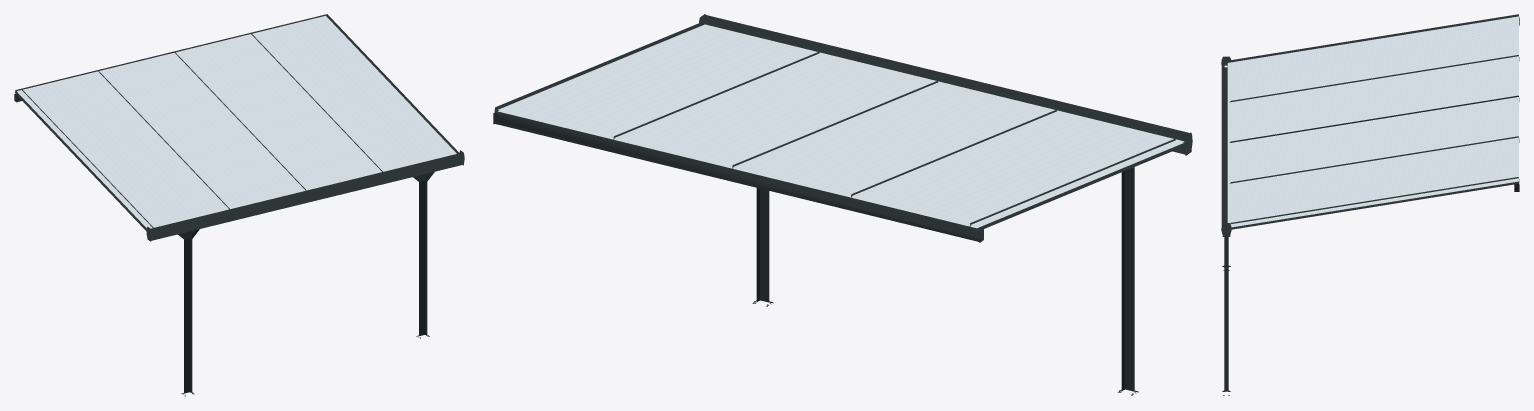
3 views of the same model, side by side, from view 1: azimuth 30°, elevation 25°; view 2: azimuth 150°, elevation 25°; view 3: azimuth 270°, elevation 25° (orthographic). The views are drawn at different scales.
Visible parts, largest first — view 1: priximbattable_net_pergola_aluminium_1127_pergola_aluminium_; view 2: priximbattable_net_pergola_aluminium_1127_pergola_aluminium_; view 3: priximbattable_net_pergola_aluminium_1127_pergola_aluminium_.
Boxes of the visible parts, x1=… form: priximbattable_net_pergola_aluminium_1127_pergola_aluminium_: x1=14, y1=14, x2=464, y2=396; priximbattable_net_pergola_aluminium_1127_pergola_aluminium_: x1=493, y1=14, x2=1192, y2=395; priximbattable_net_pergola_aluminium_1127_pergola_aluminium_: x1=1221, y1=14, x2=1519, y2=395.
Bounding box in the file's own units: 400 × 263 × 303.
Materials: 1 (1 with a texture image).
